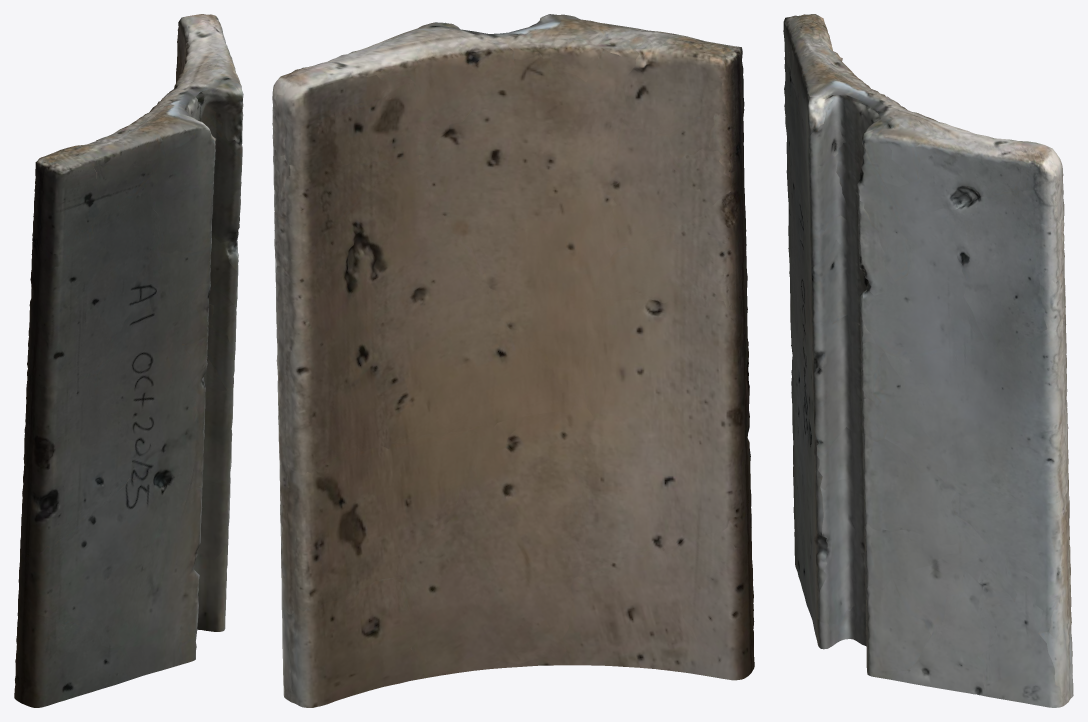
3 renders of one model, left to right at view 1: azimuth 30°, elevation 25°; view 2: azimuth 150°, elevation 25°; view 3: azimuth 270°, elevation 25°, orthographic. The views are drawn at different scales.
Parts seen in each view (by area): view 1: Node; view 2: Node; view 3: Node.
Part boxes in pixels (x1,y1,x2,y2): Node: (14, 14, 243, 707); Node: (272, 14, 754, 707); Node: (783, 14, 1073, 707).
Size of the model in its own units: 0.3875 by 0.6552 by 0.3072.
1 material, 1 textured.
